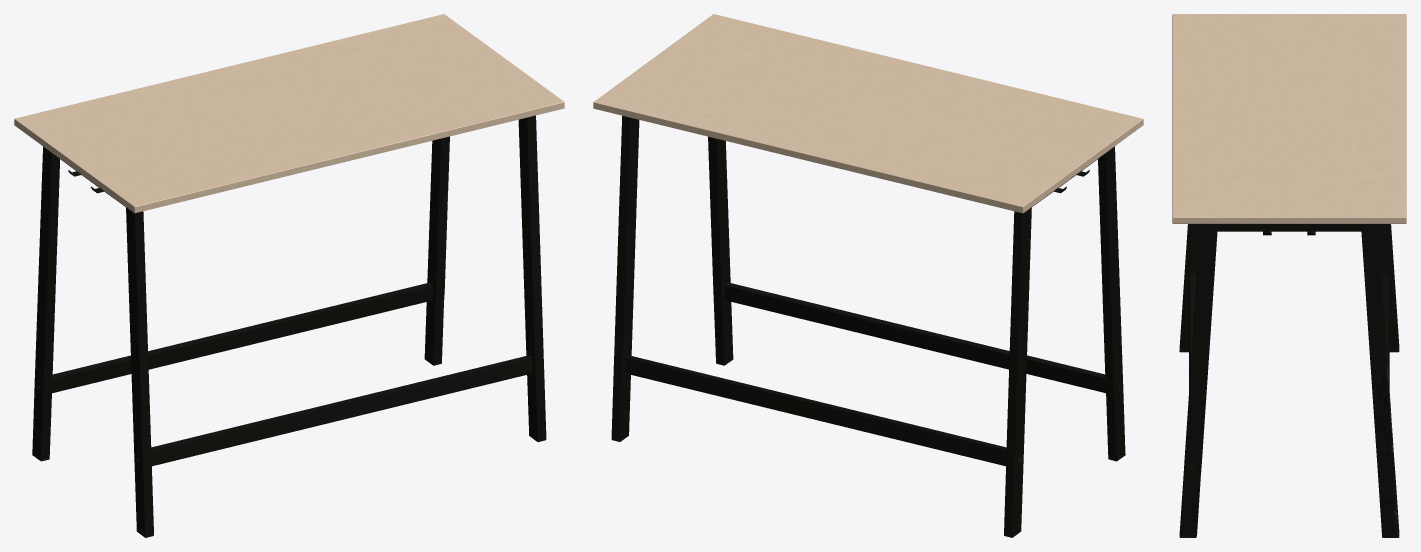
File: 12 - MITTZON - 會議桌, 實木貼皮, 樺木黑色 140x68x105 公分 IKEA 線上購物.glb
The picture shows the model from 3 angles, left to right: view 1: azimuth 30°, elevation 25°; view 2: azimuth 150°, elevation 25°; view 3: azimuth 270°, elevation 25°; orthographic projection. The views are drawn at different scales.
Parts seen in each view (by area): view 1: model, 60544536-MITTZON001; view 2: model, 60544536-MITTZON001; view 3: model, 60544536-MITTZON001.
Part boxes in pixels (<box>): model: <box>14,14,564,213</box>; 60544536-MITTZON001: <box>32,115,546,537</box>; model: <box>593,14,1143,213</box>; 60544536-MITTZON001: <box>611,115,1125,537</box>; model: <box>1172,14,1406,223</box>; 60544536-MITTZON001: <box>1179,224,1399,537</box>.
Bounding box in the file's own units: 1.4 × 1.05 × 0.6798.
2 materials, 2 textured.
